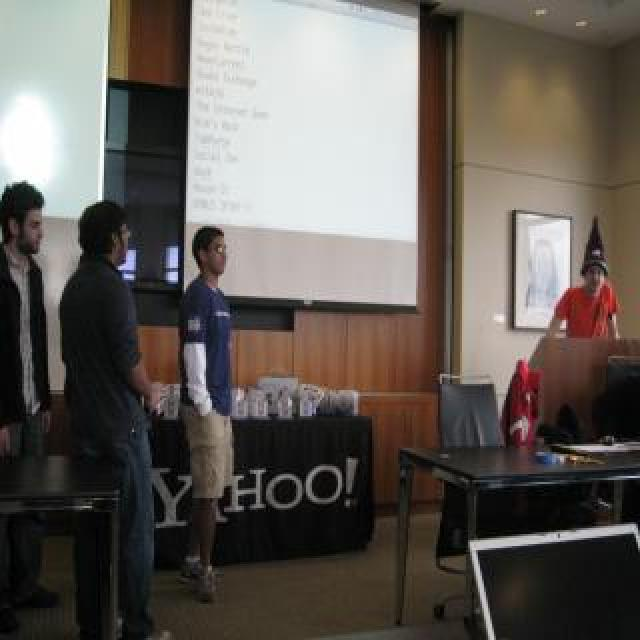laptop_computer: (472, 510, 640, 640), (602, 342, 640, 390)
